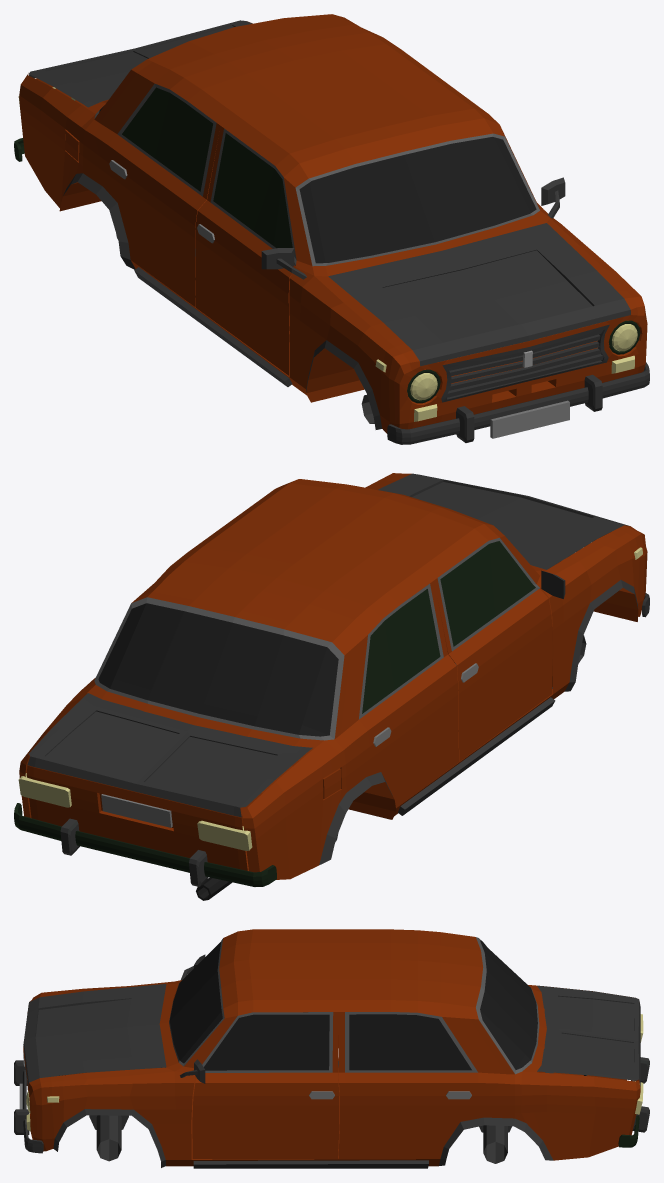
The model's file is KUZOV.fbx.
The picture shows the model from 3 angles, top to bottom: view 1: azimuth 30°, elevation 25°; view 2: azimuth 150°, elevation 25°; view 3: azimuth 270°, elevation 25°; orthographic projection. The views are drawn at different scales.
Parts seen in each view (by area): view 1: KUZOV; view 2: KUZOV; view 3: KUZOV.
Part boxes in pixels (left/top/right/bottom): KUZOV: left=14, top=14, right=649, bottom=444; KUZOV: left=14, top=473, right=649, bottom=900; KUZOV: left=14, top=929, right=649, bottom=1168.
Bounding box in the file's own units: 210 × 145 × 490.
